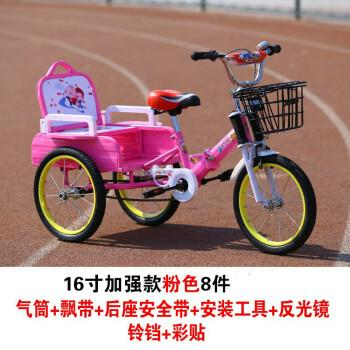empty: (14, 17, 333, 252)
